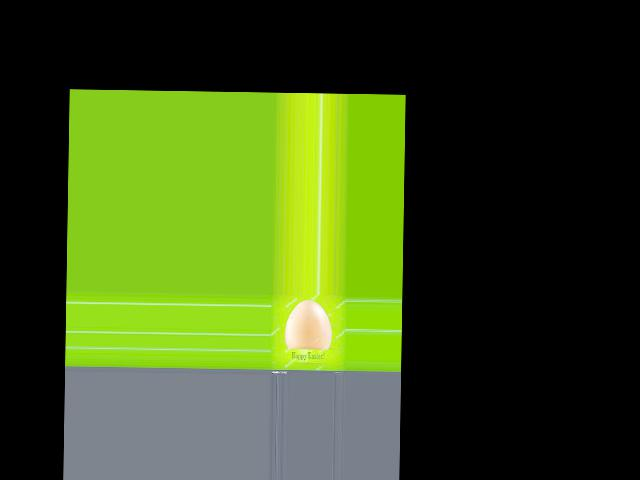egg: (285, 299, 332, 349)
